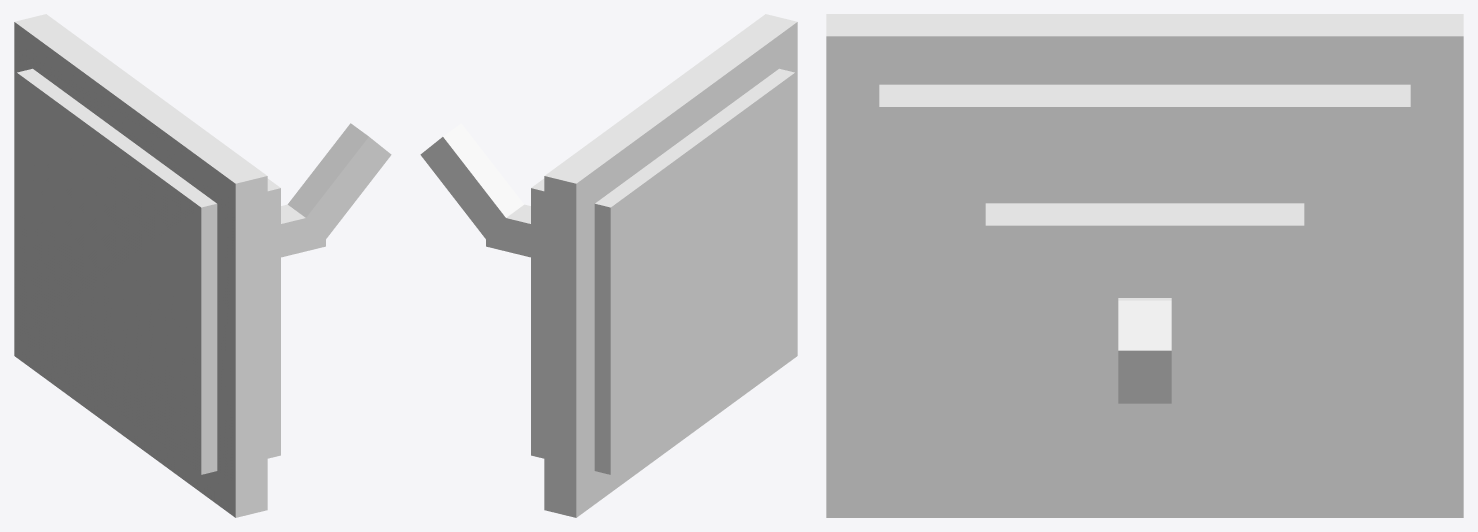
Rendered from BLINDING LIGHTS.obj.
3 renders of one model, left to right at view 1: azimuth 30°, elevation 25°; view 2: azimuth 150°, elevation 25°; view 3: azimuth 270°, elevation 25°, orthographic. The views are drawn at different scales.
Visible parts, largest first — view 1: cube; view 2: cube; view 3: cube.
Part boxes in pixels (x1,y1,x2,y2): cube: (14, 14, 391, 517); cube: (420, 14, 797, 517); cube: (826, 14, 1463, 517).
Size of the model in its own units: 0.535 by 0.625 by 0.75.
5 materials, 4 textured.
